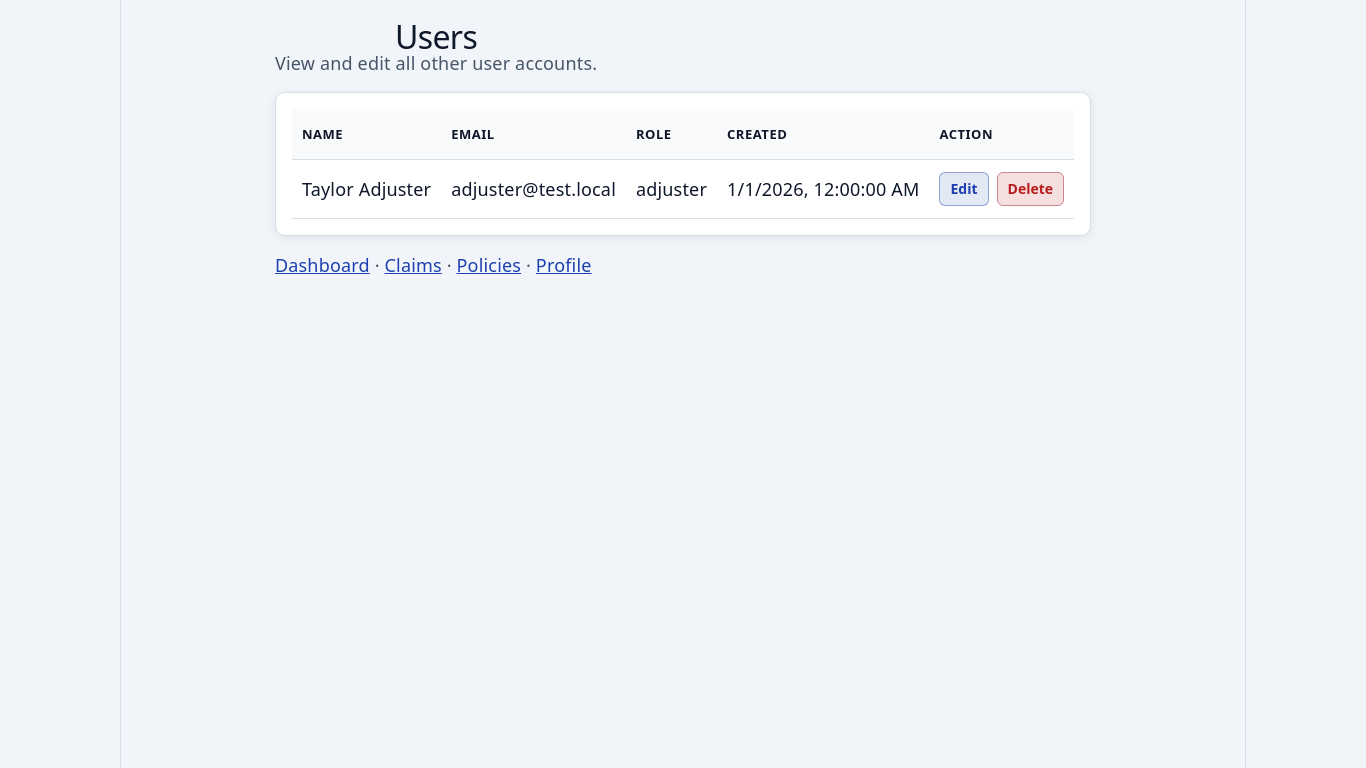
Test: UsersPage › deletes a user when admin confirms
Expected: the text "Taylor Adjuster" is shown, [292,160,441,219]
Click the button "Delete".
click(1030, 189)  # box [996,172,1064,206]
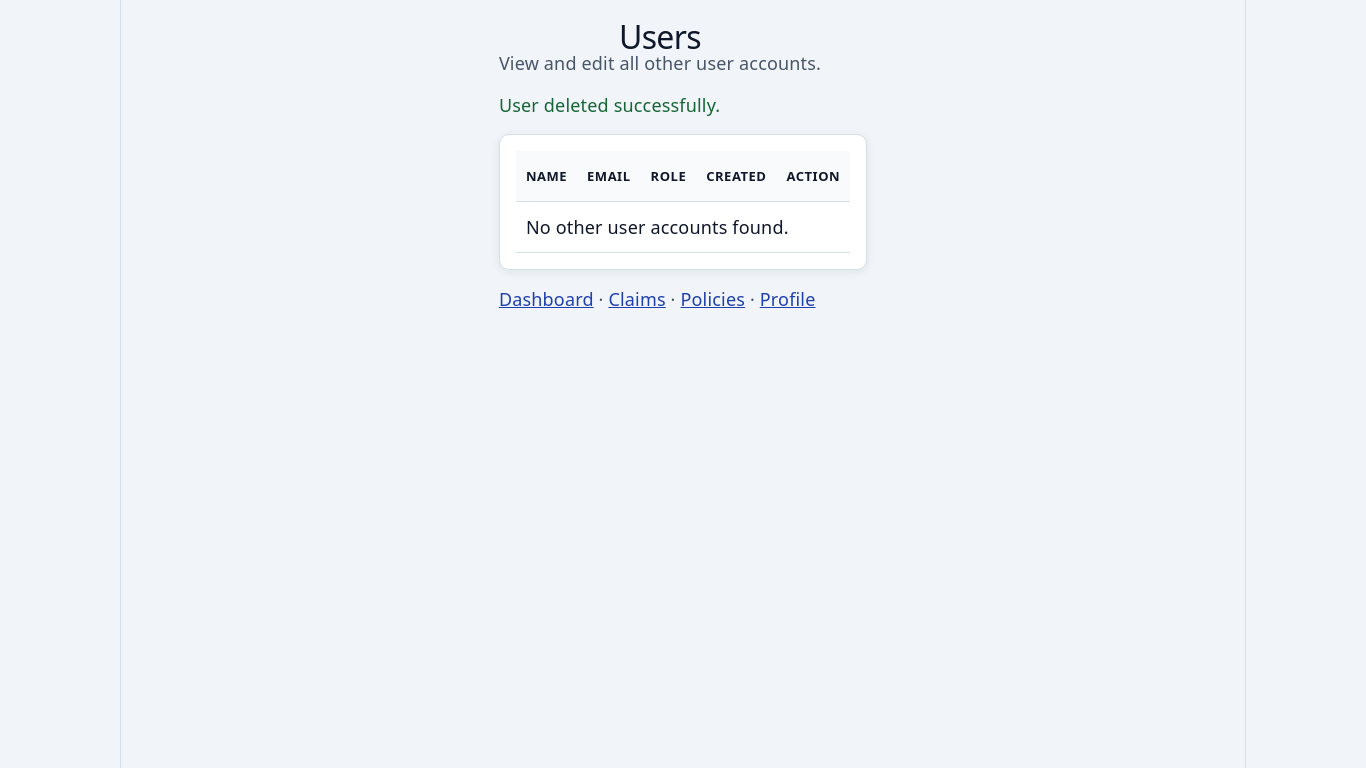
Expected: the text "Taylor Adjuster" is gone
